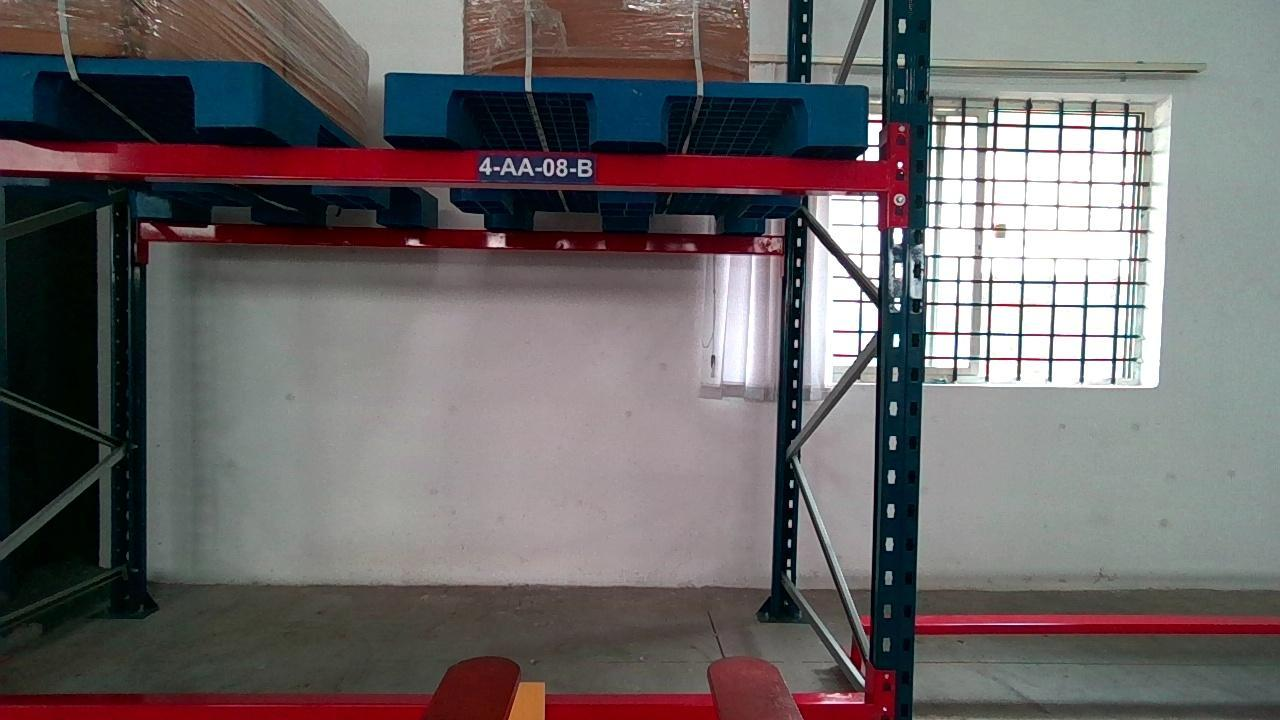h_rack: (1, 140, 887, 188)
small_pallet: (383, 72, 869, 143), (0, 56, 264, 126)
